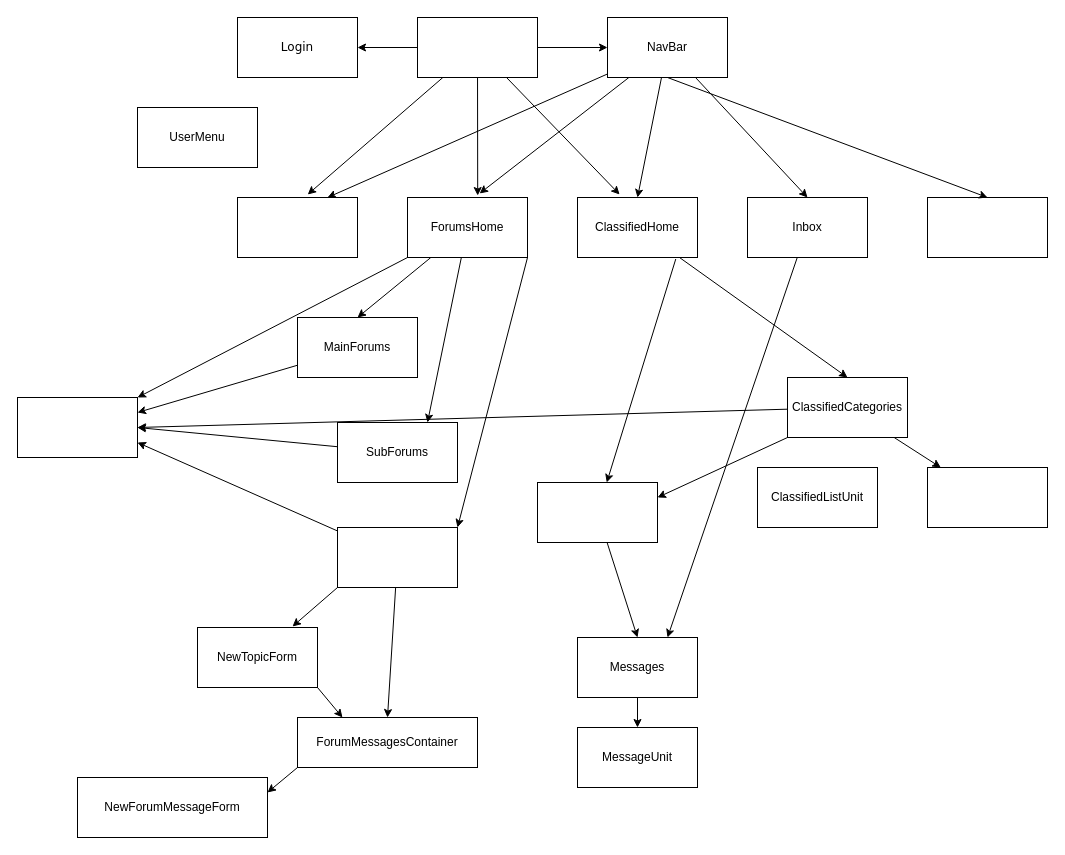
The diagram is 1065 pixels wide and 855 high, and some of its shapes have lost their labels. Each missing label, with the box of its shape:
App: (416, 16, 538, 78)
CategoryCard: (926, 466, 1048, 528)
ForSale: (536, 482, 658, 542)
Home: (236, 196, 358, 258)
ListUnit (MainForumItem): (16, 396, 138, 458)
Profile: (926, 196, 1048, 258)
SubForumTopics: (336, 526, 458, 588)
